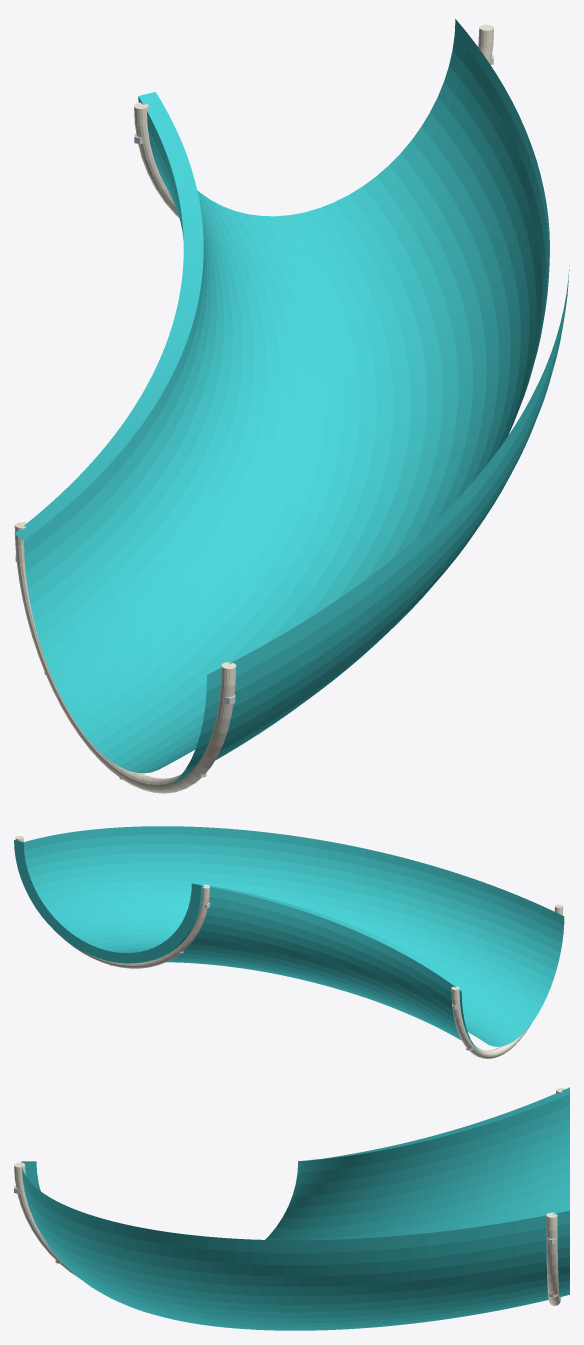
File: waterpark-and-pool-operations-waterpark-and-pool-opera-34a716bf__28956.glb
3 views of the same model, one above another, from view 1: azimuth 30°, elevation 25°; view 2: azimuth 150°, elevation 25°; view 3: azimuth 270°, elevation 25° (orthographic). The views are drawn at different scales.
Parts seen in each view (by area): view 1: waterpark-and-pool-operations-slide-curve-left-descending; view 2: waterpark-and-pool-operations-slide-curve-left-descending; view 3: waterpark-and-pool-operations-slide-curve-left-descending.
Boxes of the visible parts, x1,y1,x2,y2 form: waterpark-and-pool-operations-slide-curve-left-descending: [14, 19, 569, 793]; waterpark-and-pool-operations-slide-curve-left-descending: [14, 826, 564, 1058]; waterpark-and-pool-operations-slide-curve-left-descending: [14, 1087, 569, 1330].
Bounding box in the file's own units: 2.76 × 1.74 × 2.76.
